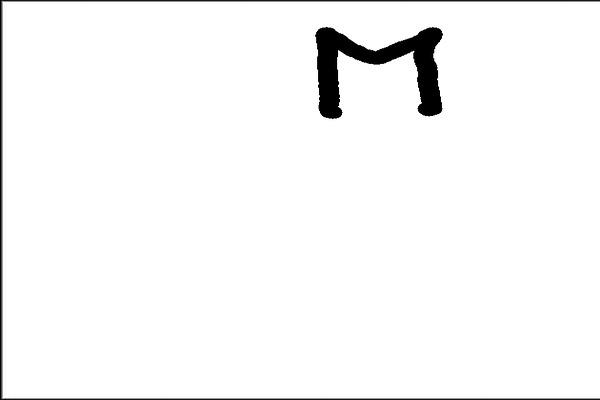M: (312, 21, 444, 122)
